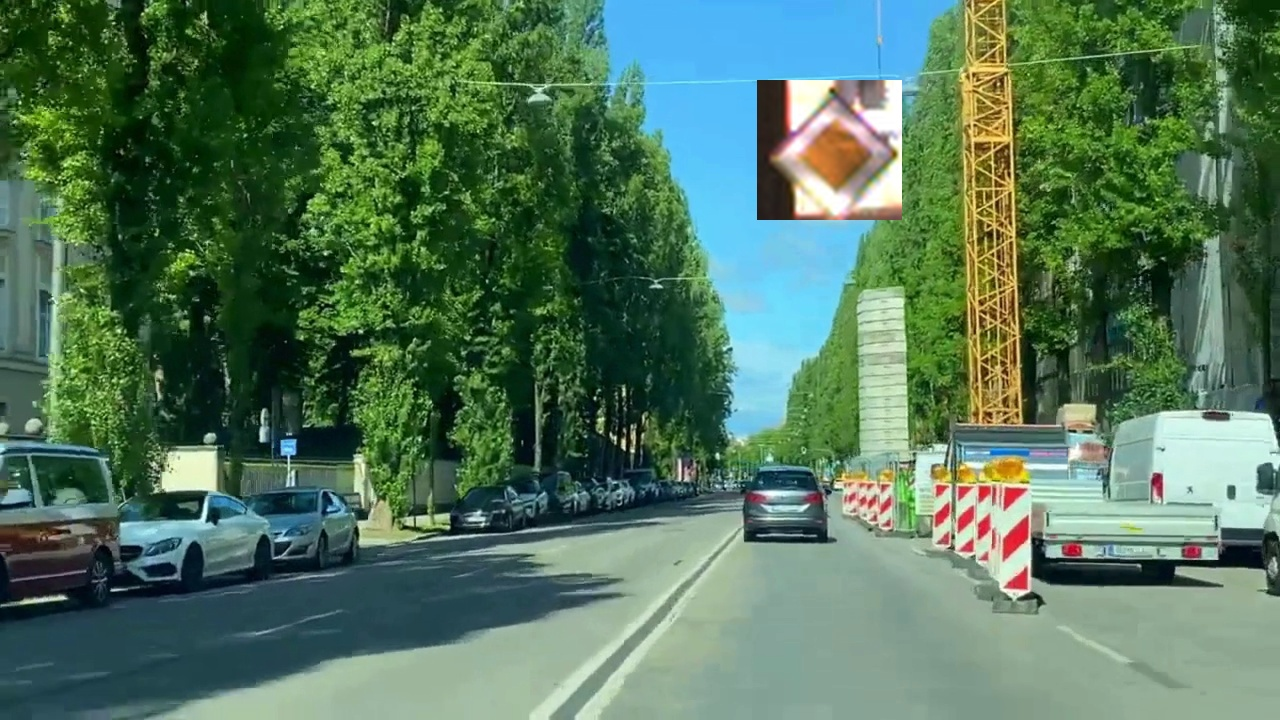Priority road: (757, 80, 902, 220)
